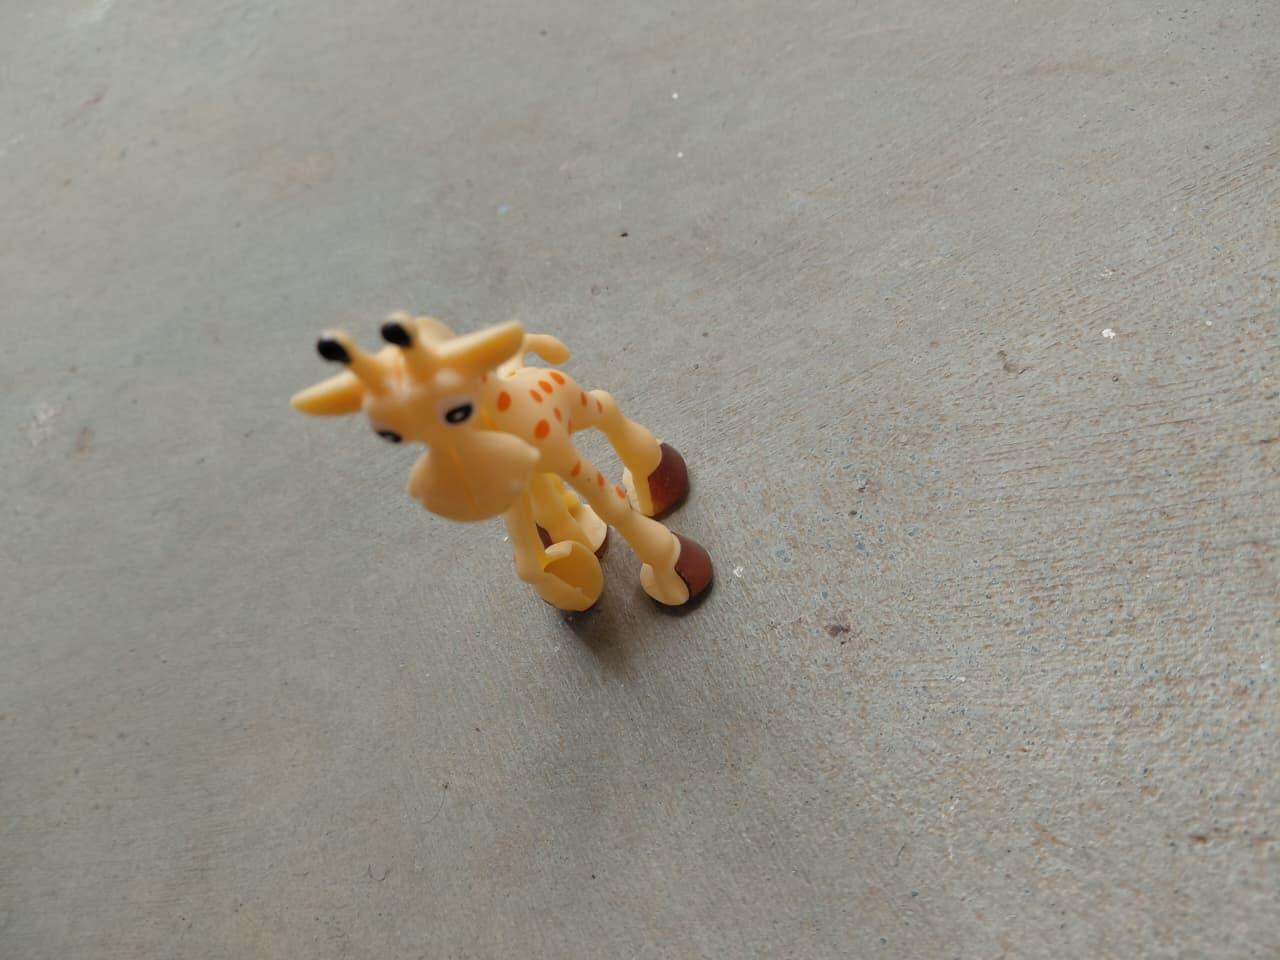giraffe: (274, 290, 720, 640)
